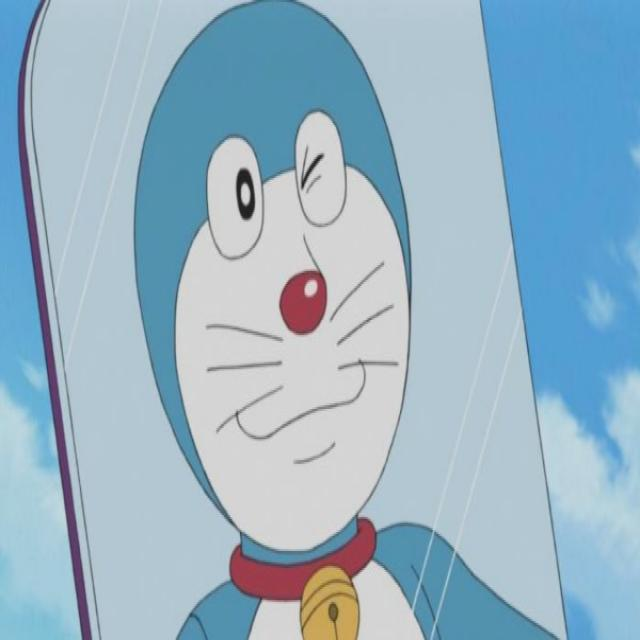doraemon: (123, 2, 460, 636)
